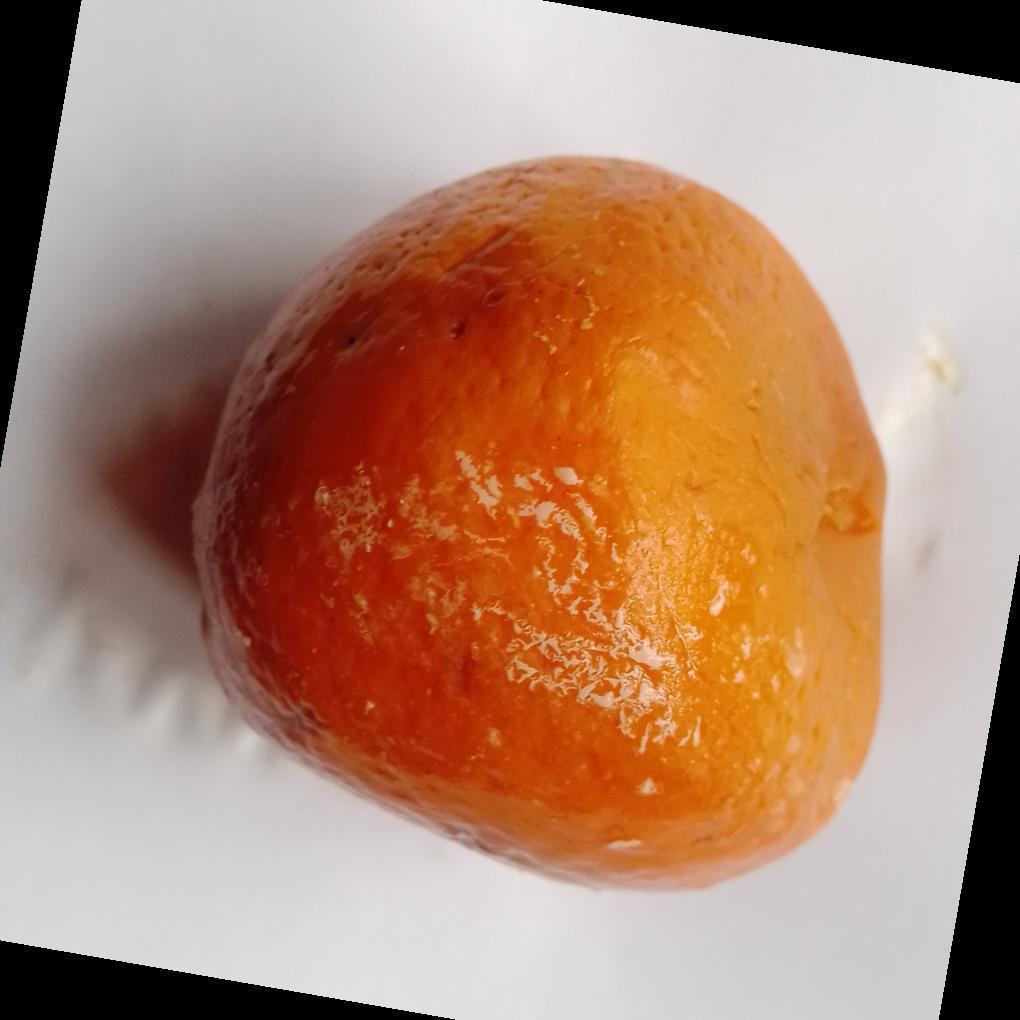FreshOrange: (188, 156, 889, 896)
